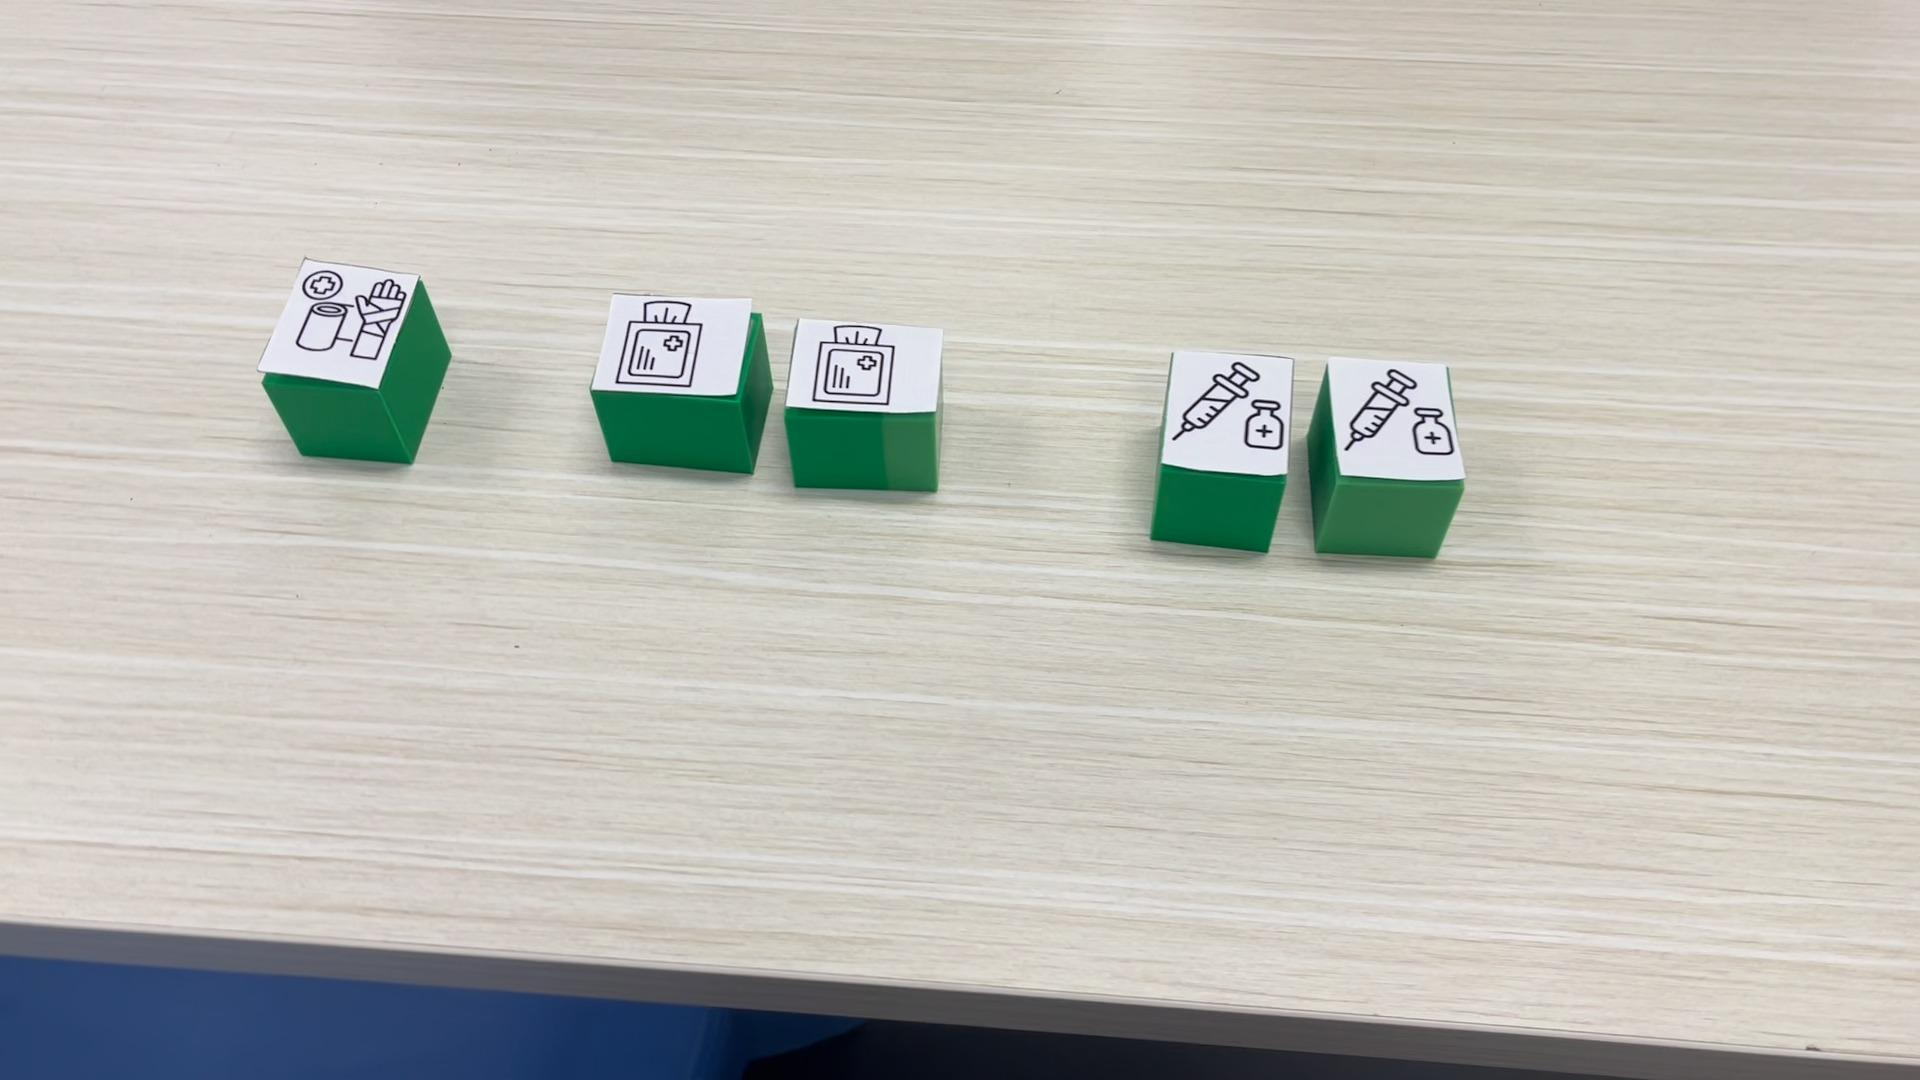Bandages: (257, 257, 451, 464)
Gauze: (589, 291, 774, 472), (785, 316, 944, 493)
antiseptic cream: (1305, 349, 1468, 559), (1147, 349, 1290, 554)
